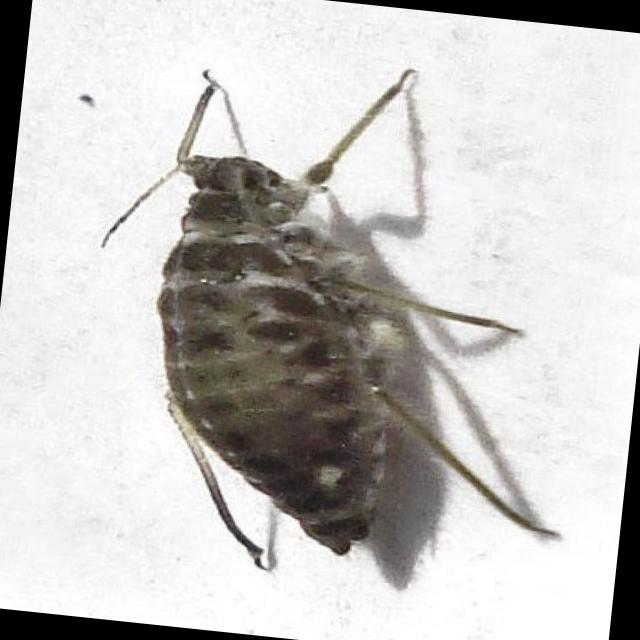aphid: (30, 28, 632, 610)
